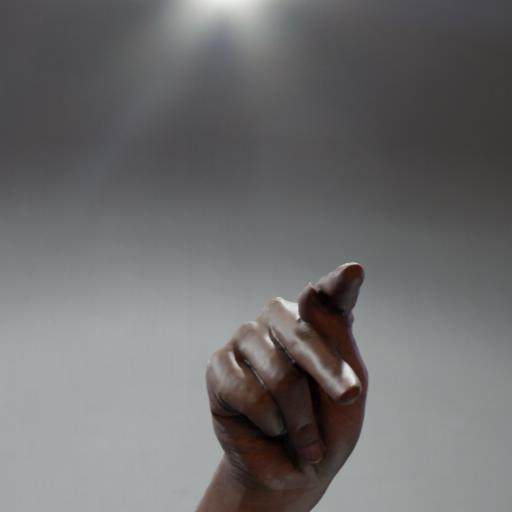P: (175, 260, 391, 506)
